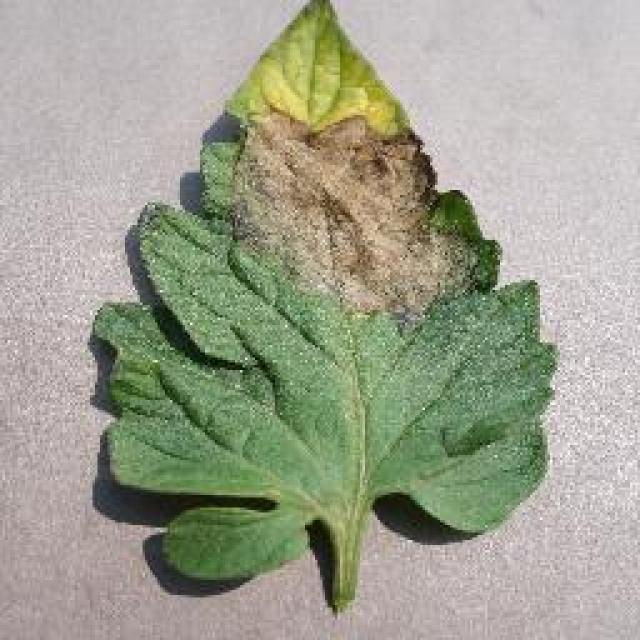Tomato Late Blight: (170, 43, 502, 380)
